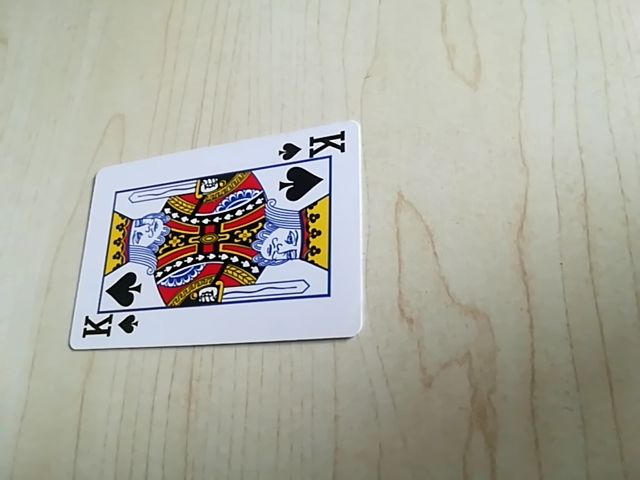ht k: (74, 308, 141, 344), (279, 131, 351, 162)
